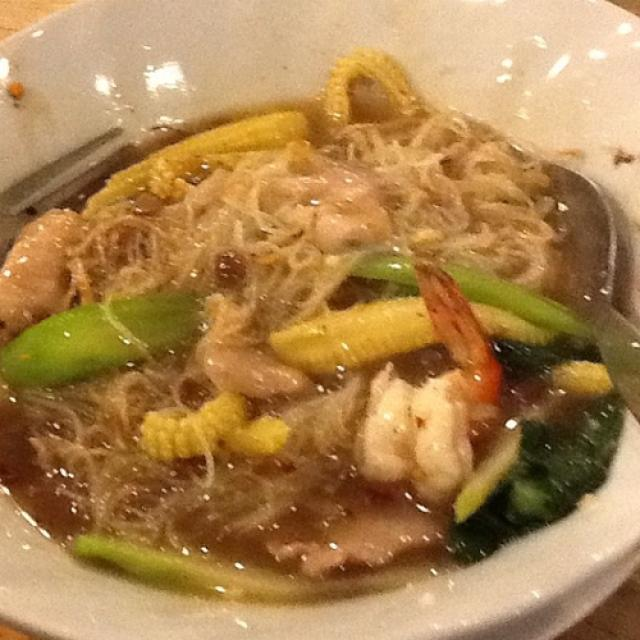面条主食: (22, 37, 631, 616)
